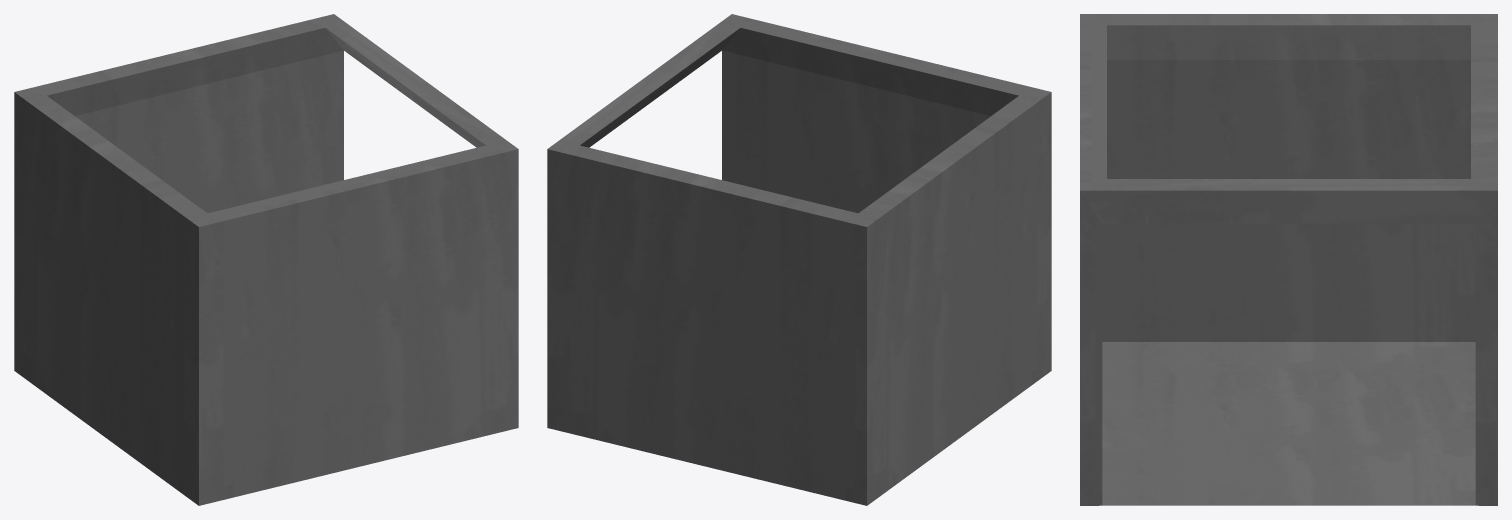
The model's file is elevator.fbx.
The picture shows the model from 3 angles, left to right: view 1: azimuth 30°, elevation 25°; view 2: azimuth 150°, elevation 25°; view 3: azimuth 270°, elevation 25°; orthographic projection. The views are drawn at different scales.
Parts seen in each view (by area): view 1: Elevator; view 2: Elevator; view 3: Elevator.
Boxes of the visible parts, left/top/right/bottom form: Elevator: left=14, top=14, right=518, bottom=505; Elevator: left=547, top=14, right=1051, bottom=505; Elevator: left=1080, top=14, right=1497, bottom=505.
Bounding box in the file's own units: 300 × 250 × 300.
